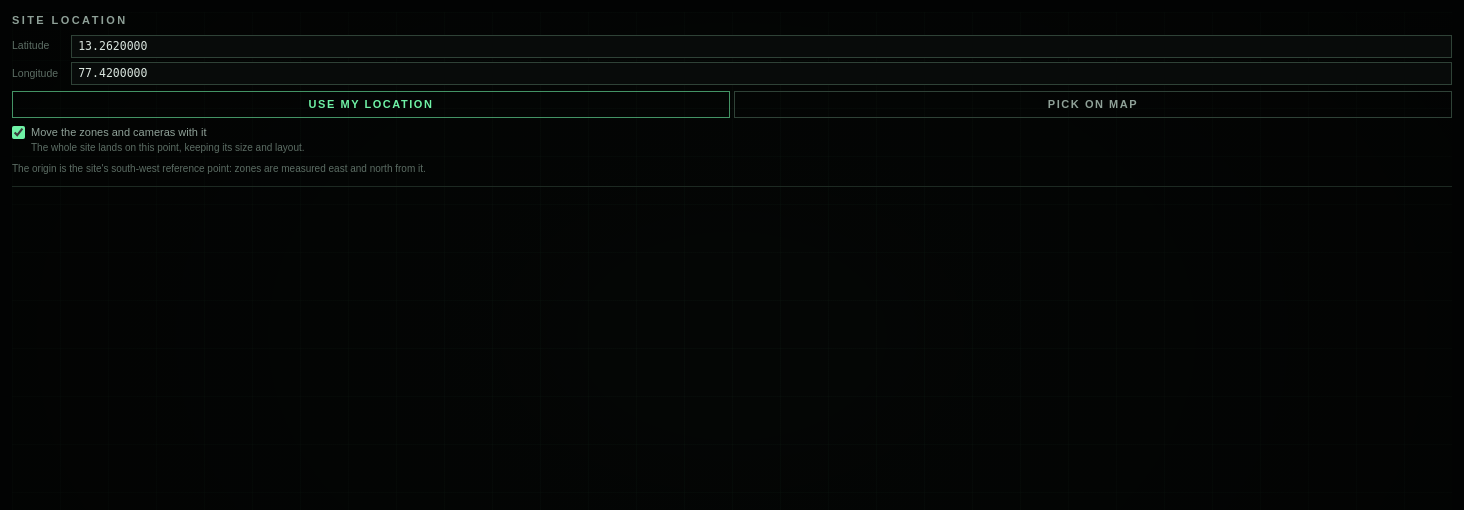
it: site location › says when a fix is too rough for a room
Click the button "Use my location" at (371, 104), box [12,91,730,118]
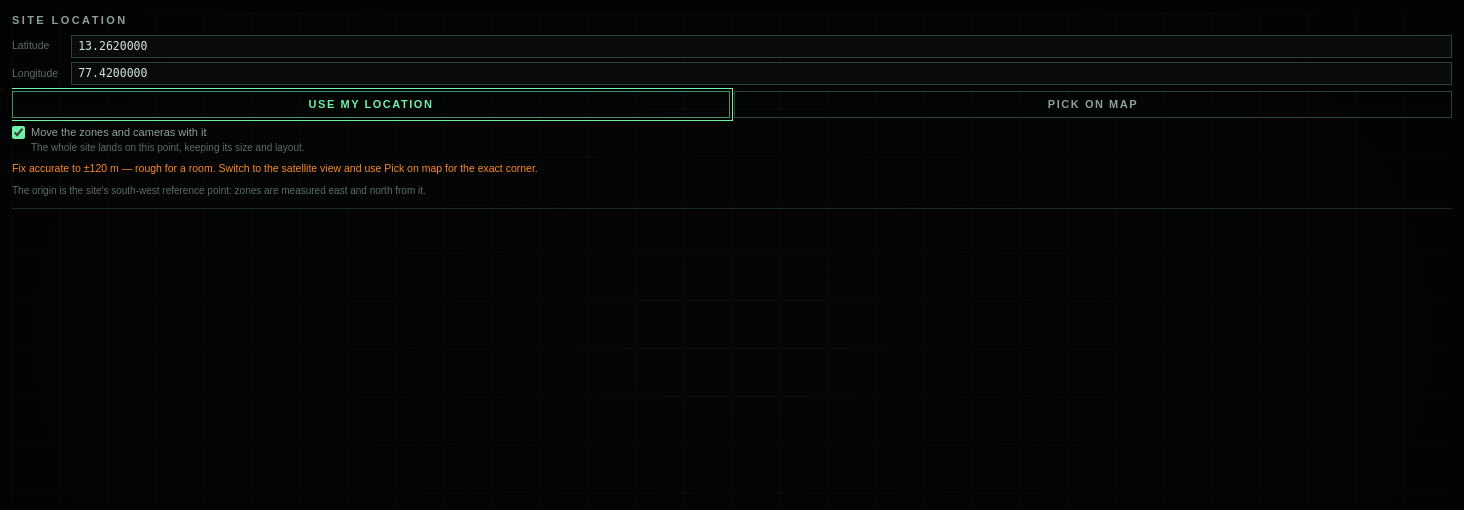
Check: the text "rough for a room" is shown, box [119,162,538,174]
